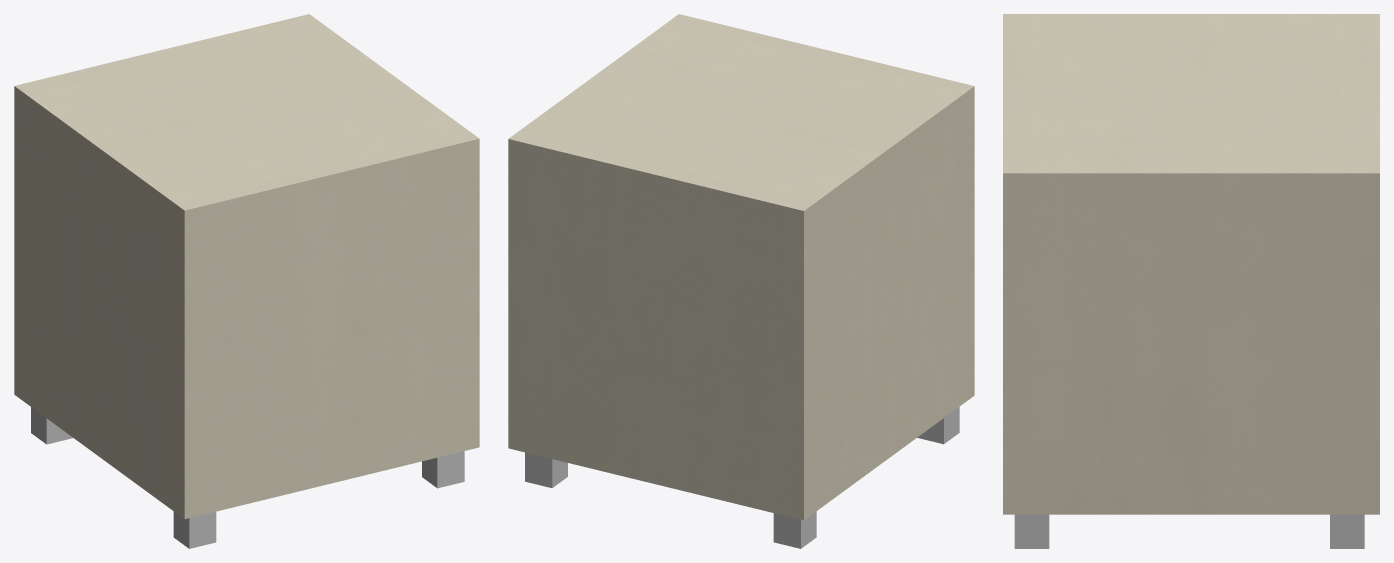
File: 6. 화장대의자.fbx
3 views of the same model, side by side, from view 1: azimuth 30°, elevation 25°; view 2: azimuth 150°, elevation 25°; view 3: azimuth 270°, elevation 25° (orthographic). The views are drawn at different scales.
Visible parts, largest first — view 1: 의자; view 2: 의자; view 3: 의자.
Part boxes in pixels (x1,y1,x2,y2): 의자: [14, 14, 479, 548]; 의자: [508, 14, 974, 548]; 의자: [1003, 14, 1379, 548].
Size of the model in its own units: 67.19 by 75 by 67.19.
